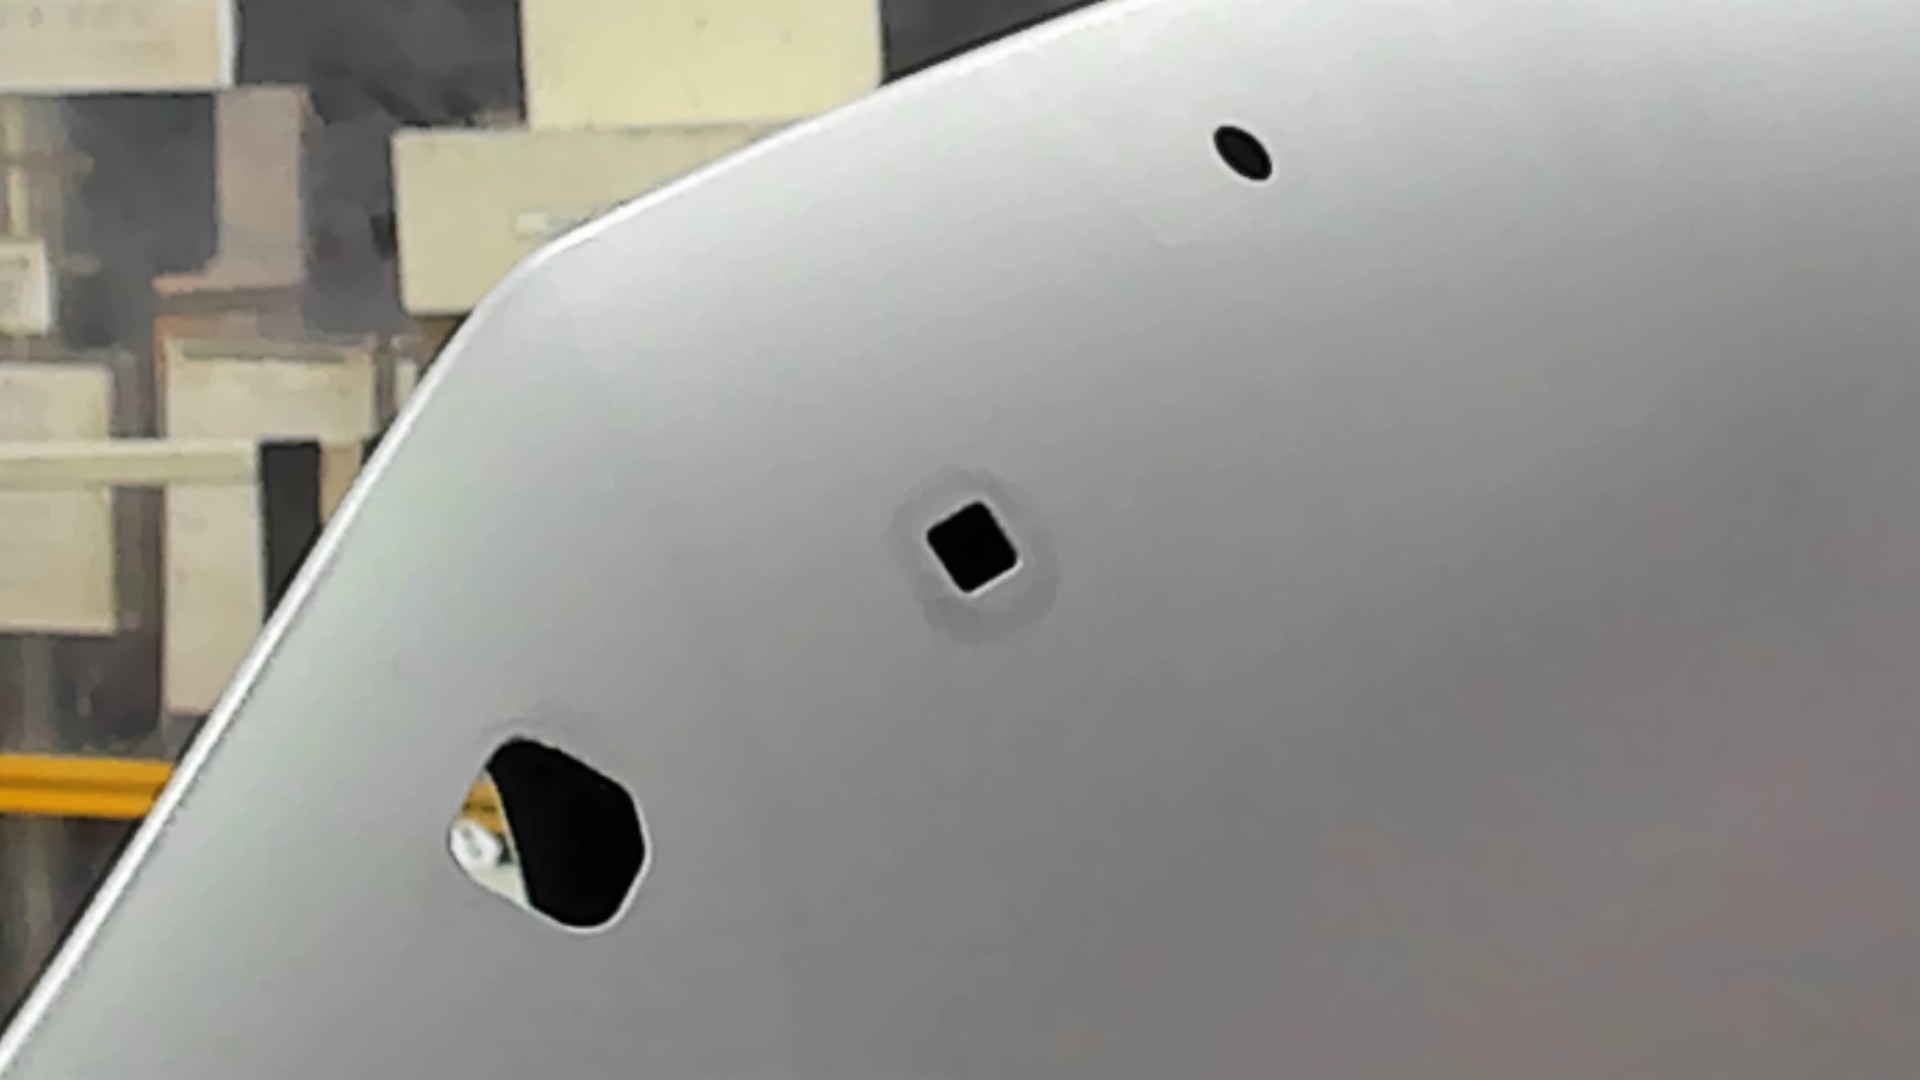capo: (1036, 185, 1920, 1080)
chico: (1209, 117, 1280, 187)
grande: (442, 727, 655, 942)
mediano: (916, 491, 1027, 607)
